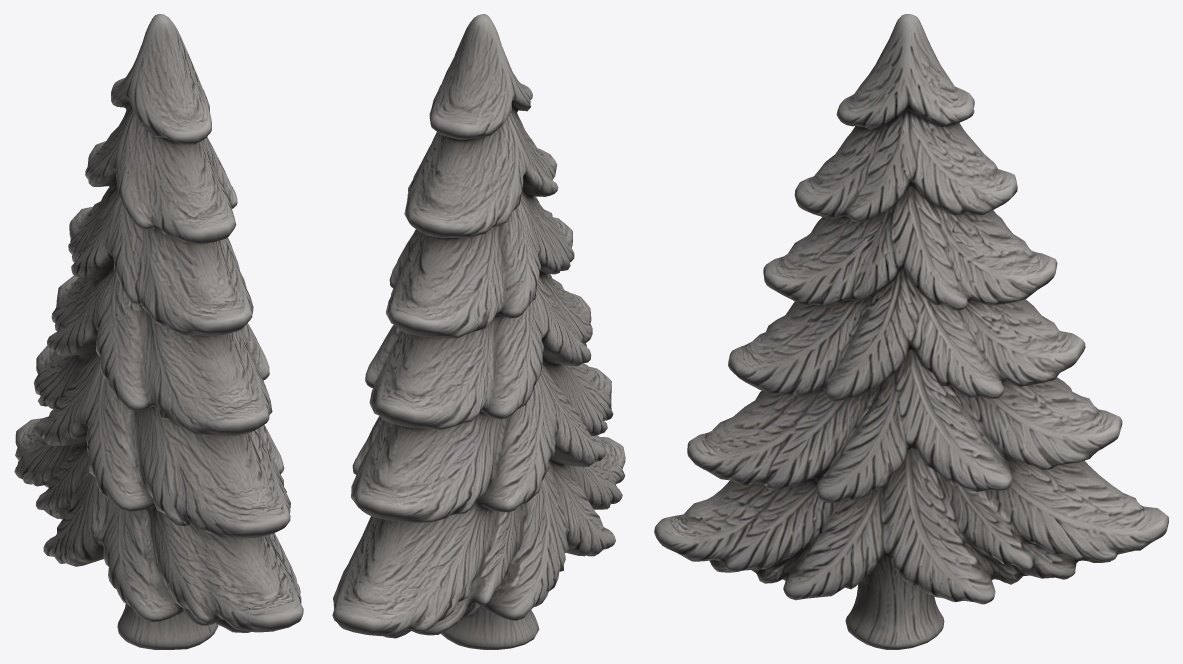
File: woodland_tree_07.glb
3 views of the same model, side by side, from view 1: azimuth 30°, elevation 25°; view 2: azimuth 150°, elevation 25°; view 3: azimuth 270°, elevation 25° (orthographic).
Visible parts, largest first — view 1: tripo_node_b3a7d479-592a-40a2-b5b6-27003bb485b8; view 2: tripo_node_b3a7d479-592a-40a2-b5b6-27003bb485b8; view 3: tripo_node_b3a7d479-592a-40a2-b5b6-27003bb485b8.
Part boxes in pixels (bbox=[...]): tripo_node_b3a7d479-592a-40a2-b5b6-27003bb485b8: bbox=[14, 14, 303, 649]; tripo_node_b3a7d479-592a-40a2-b5b6-27003bb485b8: bbox=[332, 14, 625, 649]; tripo_node_b3a7d479-592a-40a2-b5b6-27003bb485b8: bbox=[654, 14, 1168, 649].
Size of the model in its own units: 0.2905 by 0.9781 by 0.7384.
Materials: 1 (1 with a texture image).
